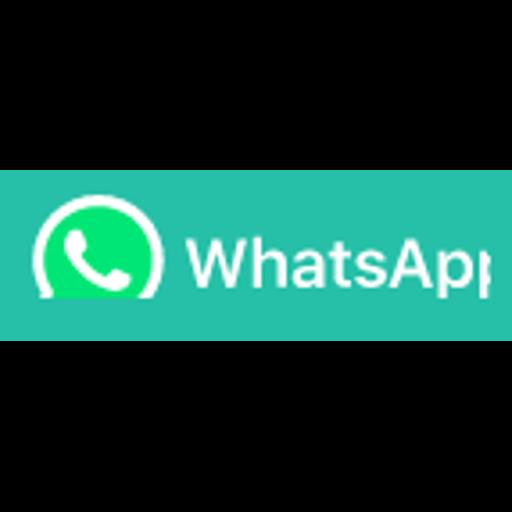WhatsApp: (0, 170, 512, 341)
